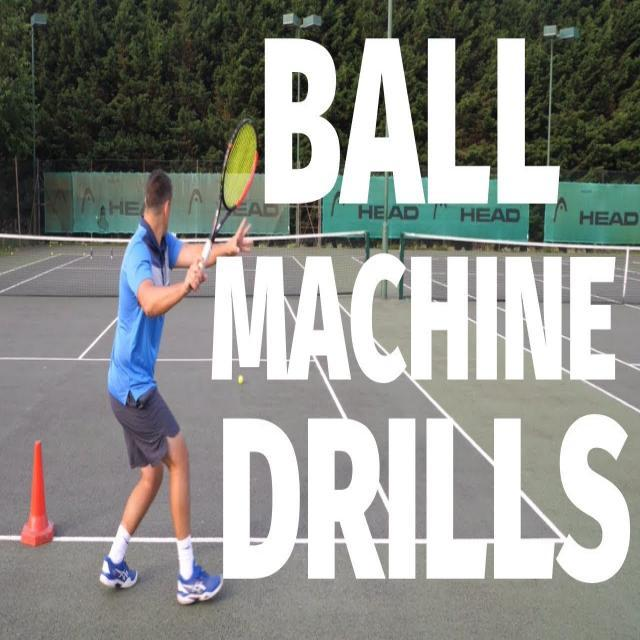net: (0, 226, 373, 300)
player: (100, 110, 260, 608)
